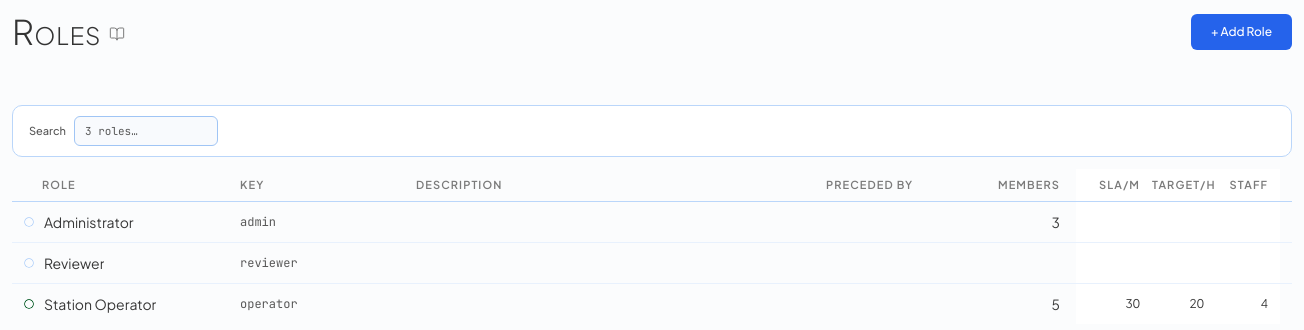
Test: RolesPage › filters roles when searching
Type "admin" into the field with placeholder "3 roles…" at (146, 131), box [74,116,218,146]
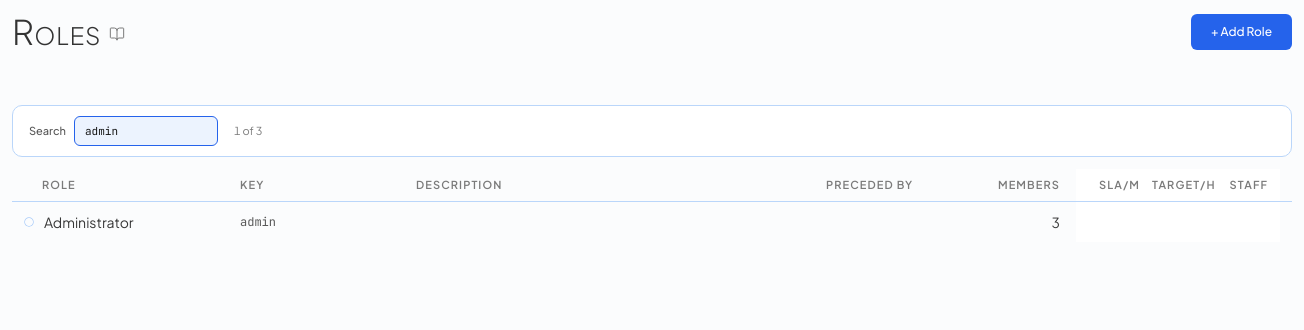
Expected: the text "admin" is shown, [240,214,276,230]
Result: the button "Reviewer" is gone
